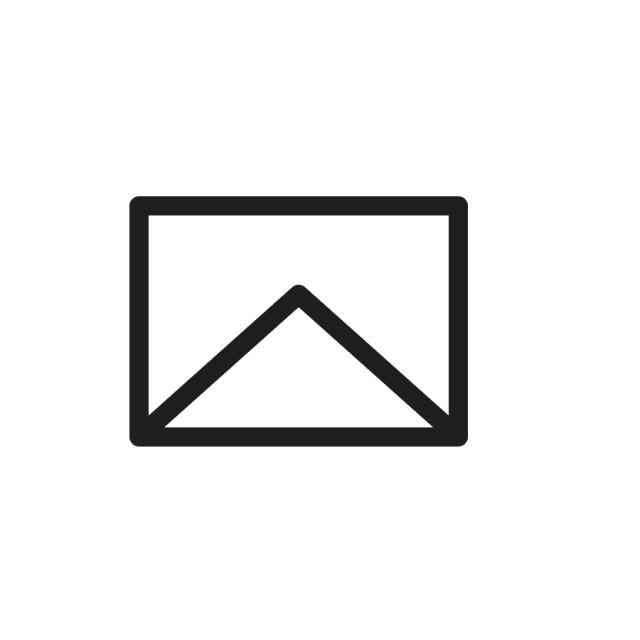letter: (125, 194, 469, 453)
